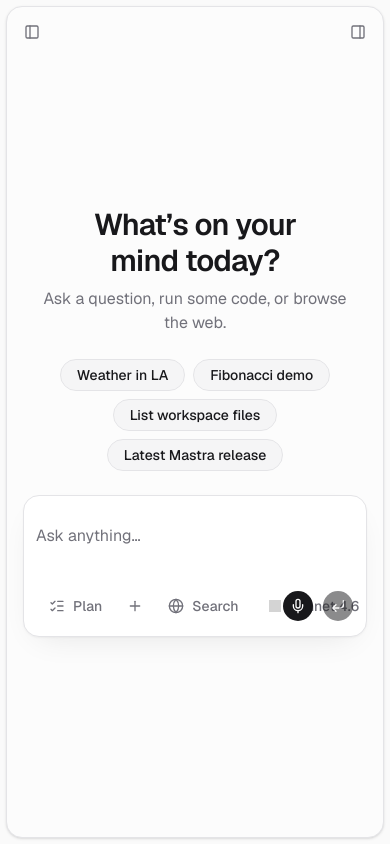
Test case: ChatSwitcher — phones › starts with the conversations closed, and opens them over the chat as a sheet
Expected: the dialog "Conversations" is not shown
Click the button named "Show conversations": (32, 32) [10, 10, 54, 54]
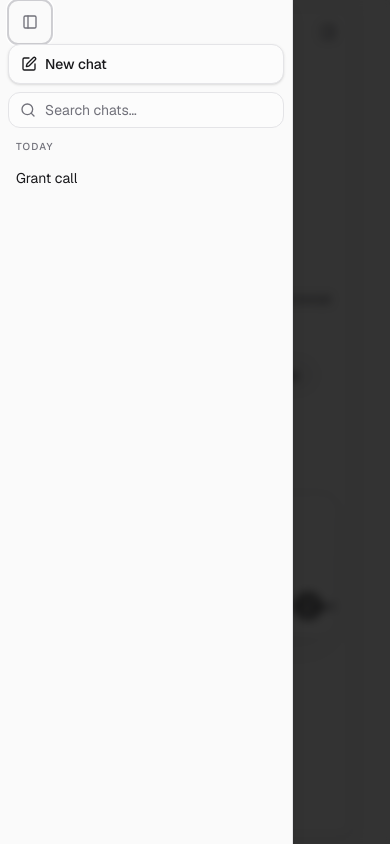
Now the button "New chat" is shown, box [8, 44, 284, 84]
